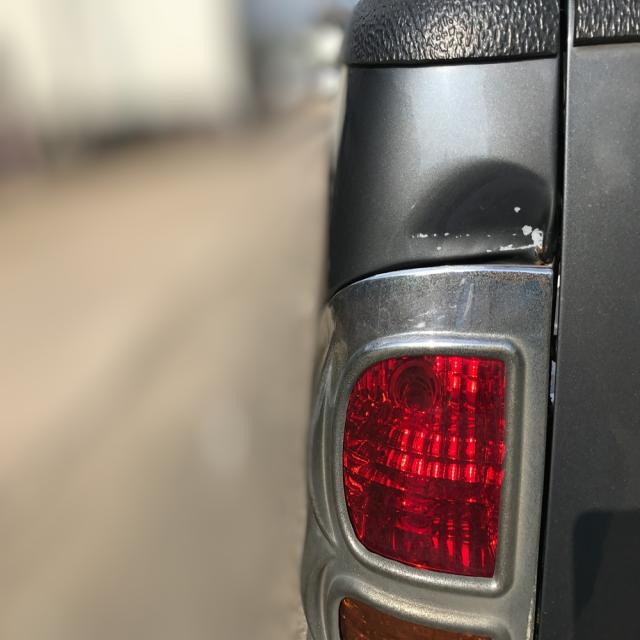Cabossage: (400, 155, 560, 265)
